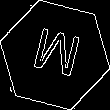M_S: (27, 25, 83, 85)
